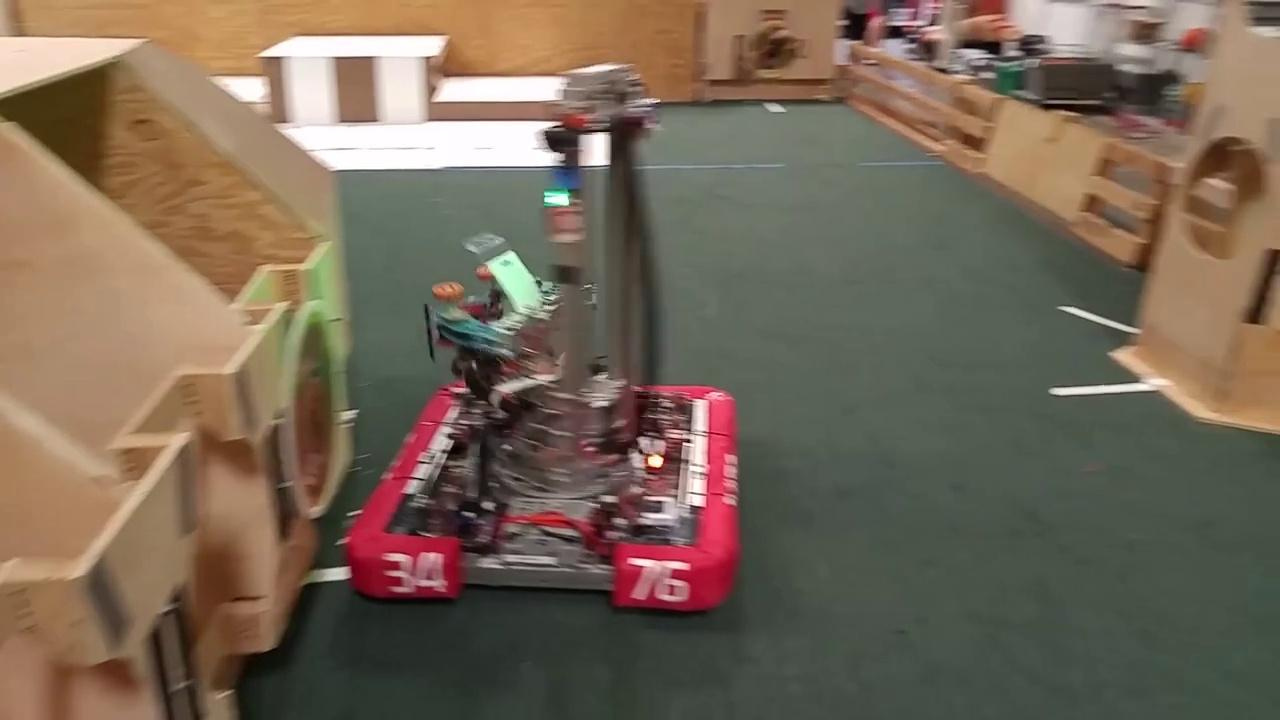robot: (344, 56, 745, 622)
